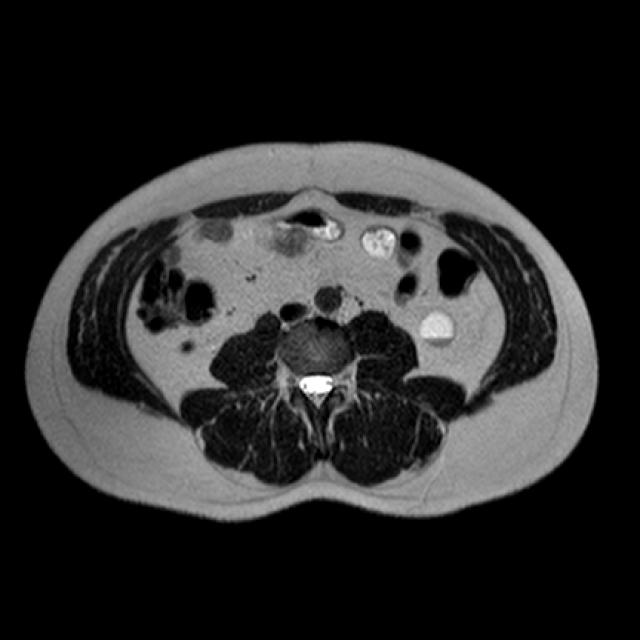sol: (421, 307, 455, 349)
